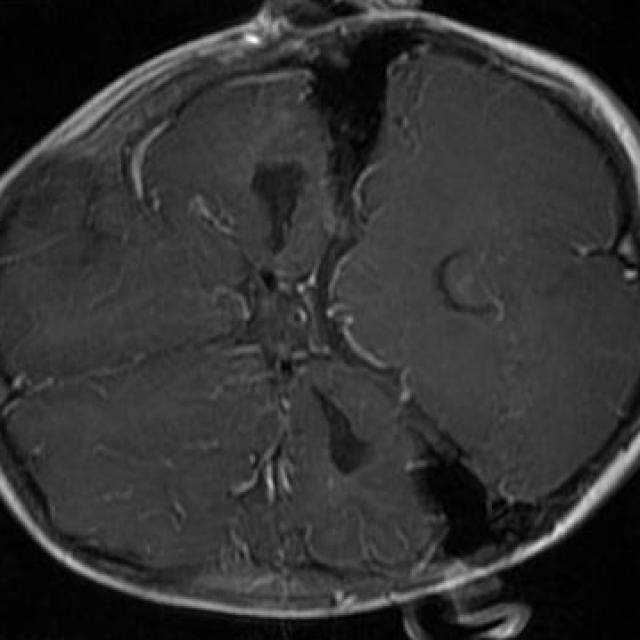glioma: (251, 164, 303, 251)
